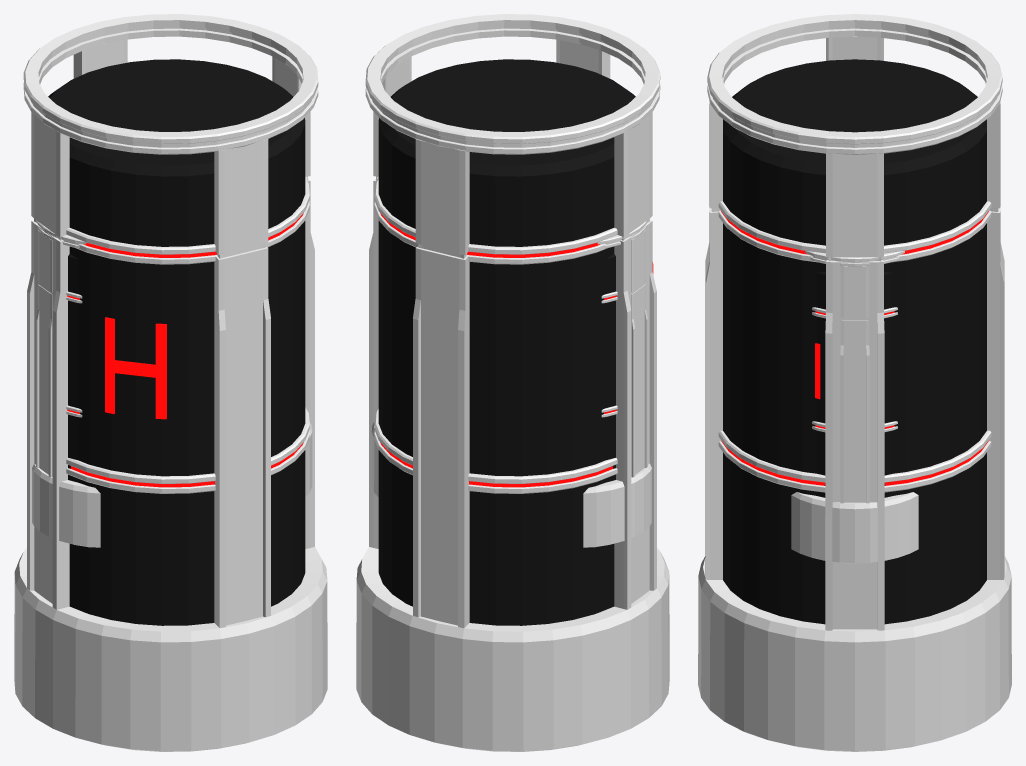
Rendered from hydrogen_fuel_tank.glb.
3 renders of one model, left to right at view 1: azimuth 30°, elevation 25°; view 2: azimuth 150°, elevation 25°; view 3: azimuth 270°, elevation 25°, orthographic.
Parts seen in each view (by area): view 1: Hydrogen_Fuel_Tank_Skeleton.001, Hydrogen_Fuel_Tank_Lvl_2, Hydrogen_Fuel_Tank_Skeleton, Hydrogen_Fuel_Tank_Lights.001, Hydrogen_Fuel_Tank_Lvl_1; view 2: Hydrogen_Fuel_Tank_Skeleton.001, Hydrogen_Fuel_Tank_Lvl_2, Hydrogen_Fuel_Tank_Skeleton, Hydrogen_Fuel_Tank_Lvl_1, Hydrogen_Fuel_Tank_Lights.001; view 3: Hydrogen_Fuel_Tank_Skeleton.001, Hydrogen_Fuel_Tank_Lvl_2, Hydrogen_Fuel_Tank_Skeleton, Hydrogen_Fuel_Tank_Lvl_1, Hydrogen_Fuel_Tank_Lights.001.
Part boxes in pixels (x1,y1,x2,y2): Hydrogen_Fuel_Tank_Skeleton.001: [14, 14, 327, 751]; Hydrogen_Fuel_Tank_Lvl_2: [48, 59, 305, 625]; Hydrogen_Fuel_Tank_Skeleton: [32, 176, 312, 547]; Hydrogen_Fuel_Tank_Lights.001: [71, 213, 303, 487]; Hydrogen_Fuel_Tank_Lvl_1: [68, 254, 78, 482]; Hydrogen_Fuel_Tank_Skeleton.001: [356, 14, 669, 751]; Hydrogen_Fuel_Tank_Lvl_2: [378, 59, 635, 625]; Hydrogen_Fuel_Tank_Skeleton: [371, 176, 651, 547]; Hydrogen_Fuel_Tank_Lvl_1: [605, 254, 615, 482]; Hydrogen_Fuel_Tank_Lights.001: [380, 213, 653, 487]; Hydrogen_Fuel_Tank_Skeleton.001: [698, 14, 1011, 751]; Hydrogen_Fuel_Tank_Lvl_2: [723, 59, 986, 624]; Hydrogen_Fuel_Tank_Skeleton: [791, 251, 918, 563]; Hydrogen_Fuel_Tank_Lvl_1: [817, 272, 892, 497]; Hydrogen_Fuel_Tank_Lights.001: [721, 211, 988, 485].
Bounding box in the file's own units: 5.13 × 11.16 × 5.13.
